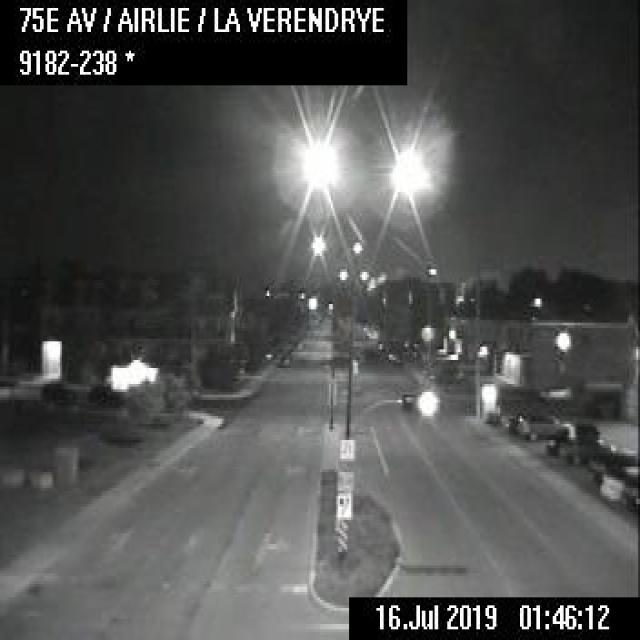vehicle: (516, 410, 570, 442), (560, 434, 612, 464), (599, 462, 637, 503), (38, 376, 78, 403), (87, 378, 121, 403), (275, 349, 292, 366), (384, 347, 402, 363)
